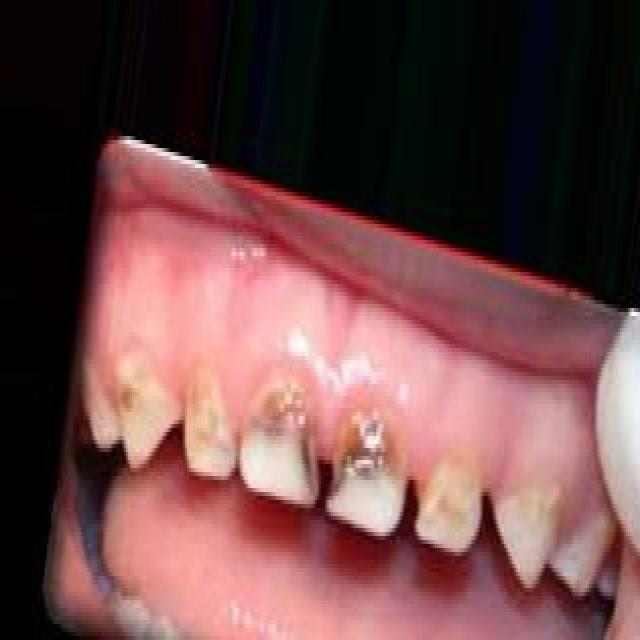caries: (235, 362, 322, 506), (322, 407, 401, 536), (416, 444, 486, 559), (176, 362, 237, 490), (109, 336, 158, 439)
